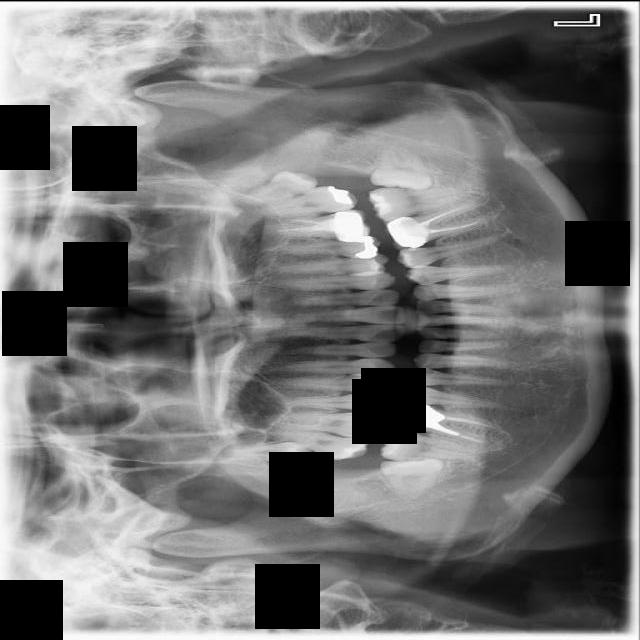3M ESPE Implant: (224, 441, 309, 465)
52: (381, 210, 427, 257), (377, 422, 425, 466), (307, 179, 361, 216), (365, 183, 409, 225), (342, 404, 382, 445), (389, 400, 436, 434), (335, 206, 372, 242), (347, 235, 380, 258), (357, 391, 389, 411)
73: (411, 196, 491, 244), (418, 404, 500, 448), (275, 212, 339, 242), (580, 52, 596, 60)
BioHorizons Implant: (248, 180, 358, 224)
BioLife Implant: (230, 160, 321, 211)
Biomet 3i Implant: (369, 144, 437, 192)
Blue Sky Bio Implant: (369, 186, 466, 221)
Caries: (261, 420, 370, 466)
Implant: (376, 424, 473, 475)
Keystone Dental Implant: (379, 456, 445, 501)
